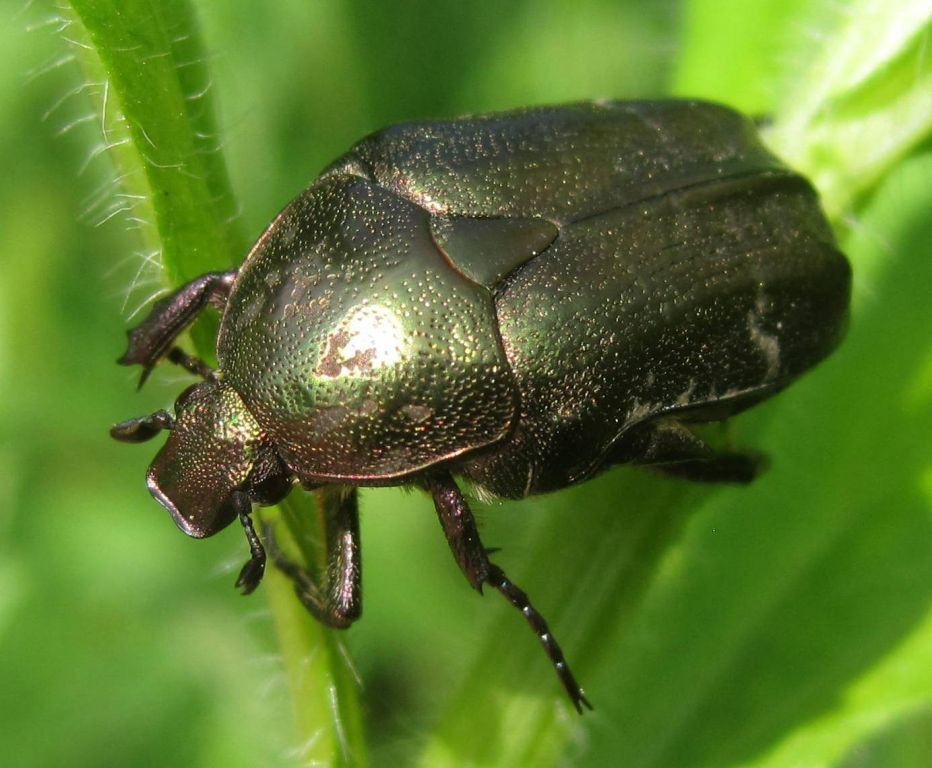Protaetia_metallica: (98, 89, 857, 725)
